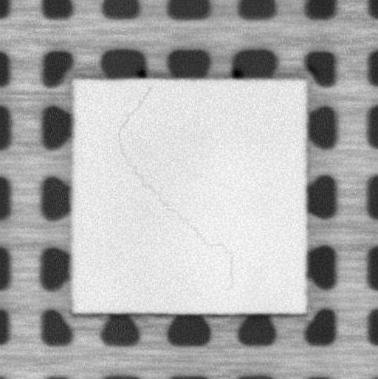DIE_CRACK: (115, 87, 234, 289)
